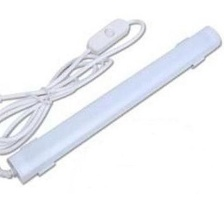light_bulb: (0, 19, 223, 186)
